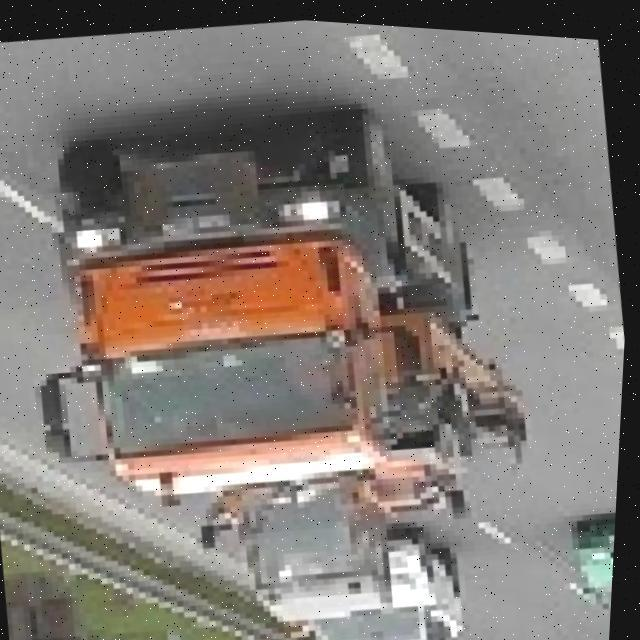truck: (0, 78, 549, 584)
